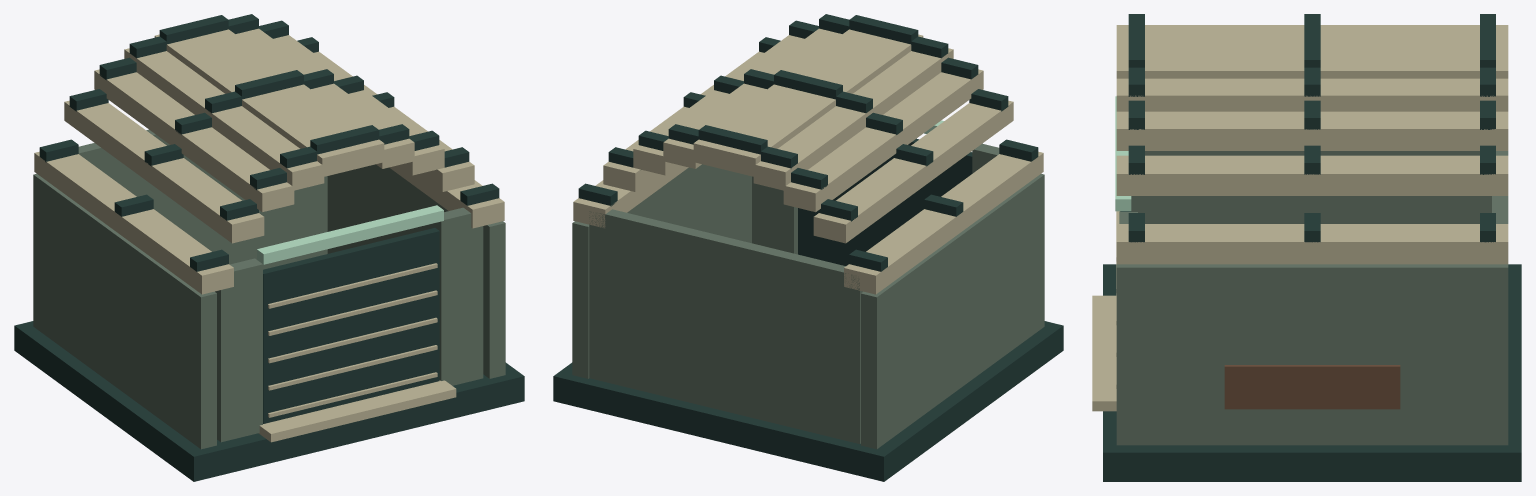
The model's file is hangar-weathered.glb.
3 views of the same model, side by side, from view 1: azimuth 30°, elevation 25°; view 2: azimuth 150°, elevation 25°; view 3: azimuth 270°, elevation 25° (orthographic). The views are drawn at different scales.
Visible parts, largest first — view 1: hangar-weathered; view 2: hangar-weathered; view 3: hangar-weathered.
Boxes of the visible parts, x1,y1,x2,y2 form: hangar-weathered: (14,14,524,481); hangar-weathered: (553,14,1063,481); hangar-weathered: (1092,14,1521,481).
Size of the model in its own units: 3.3 by 2.82 by 3.18.
